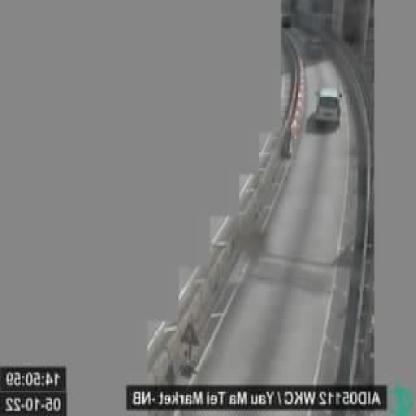Car: (312, 87, 342, 123)
